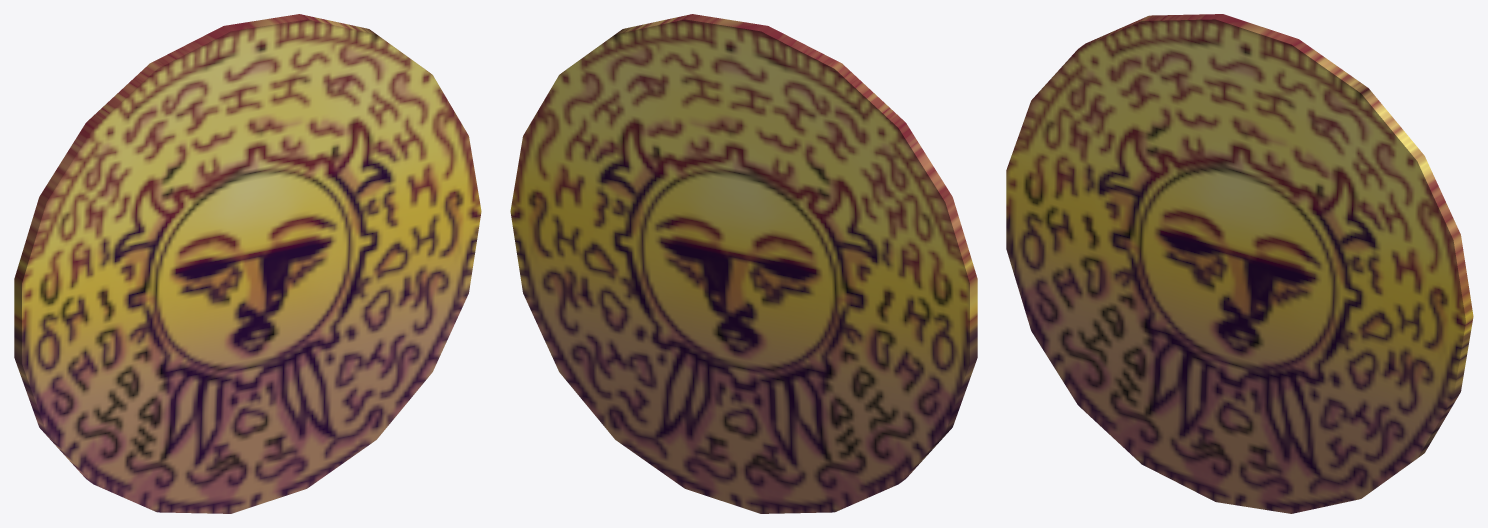
File: agimat 1.fbx
3 views of the same model, side by side, from view 1: azimuth 30°, elevation 25°; view 2: azimuth 150°, elevation 25°; view 3: azimuth 330°, elevation 25° (orthographic).
Visible parts, largest first — view 1: agimat; view 2: agimat; view 3: agimat.
Boxes of the visible parts, x1,y1,x2,y2 form: agimat: (14,14,481,513); agimat: (510,14,977,513); agimat: (1006,14,1473,513).
Size of the model in its own units: 1.47 by 1.48 by 0.0412.
